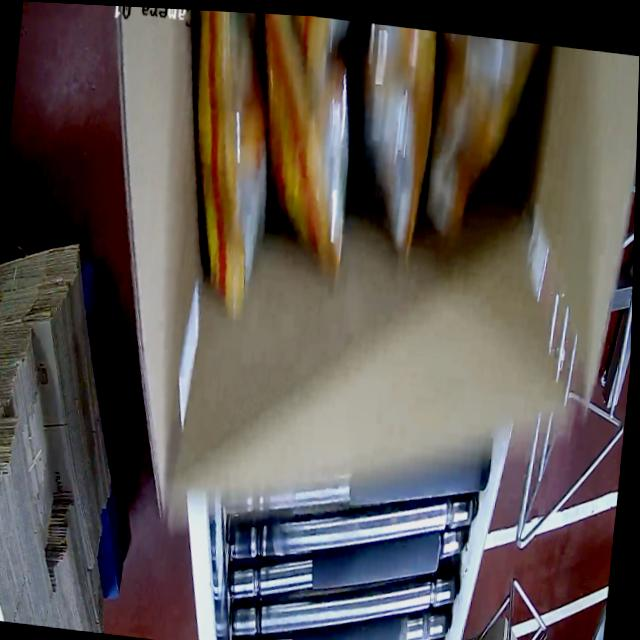FRENCH_CHEESE: (155, 9, 542, 315)
